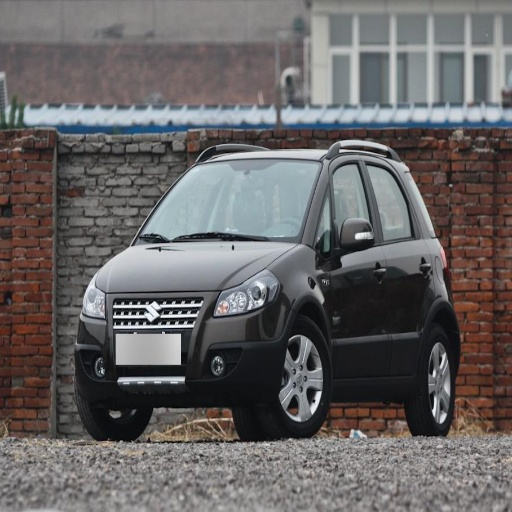front_bumper: (77, 290, 286, 398)
front_glass: (134, 163, 322, 243)
front_left_door: (315, 153, 388, 373)
